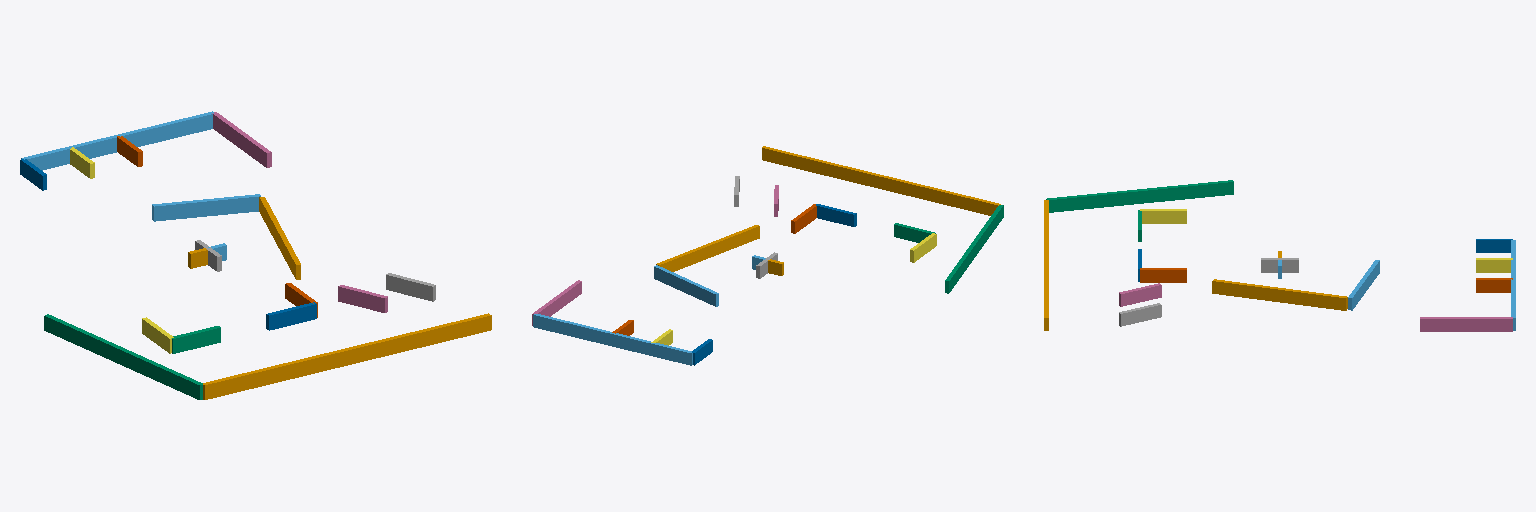
URDF robot description (arena):
<robot name="arena">
  <link name="wall_left">
    <inertial>
      <origin xyz="3.5 -5 0" /> 
      <mass value="10.0" />
      <inertia  ixx="1.0" ixy="0.0"  ixz="0.0"  iyy="1.0"  iyz="0.0"  izz="1.0" />
    </inertial>
    <visual>
      <origin xyz="3.5 -5 0"/>
      <geometry>
        <box size="6 0.1 0.3" />
      </geometry>
    </visual>
    <collision>
      <origin xyz="3.5 -5 0"/>
      <geometry>
       <box size="6 0.1 0.3" />
      </geometry>
    </collision>
  </link>
  
  <link name="wall_right">
    <inertial>
      <origin xyz="4.5 5 0" /> 
      <mass value="10.0" />
      <inertia  ixx="1.0" ixy="0.0"  ixz="0.0"  iyy="1.0"  iyz="0.0"  izz="1.0" />
    </inertial>
    <visual>
      <origin xyz="4.5 5 0"/>
      <geometry>
        <box size="4 0.1 0.3" />
      </geometry>
    </visual>
    <collision>
      <origin xyz="4.5 5 0"/>
      <geometry>
       <box size="4 0.1 0.3" />
      </geometry>
    </collision>
  </link>
  
  <joint name="join_wall_left_to_right" type="fixed">
    <origin xyz="0 0 0" rpy="0 0 0"/>
    <parent link="wall_left"/>
    <child link="wall_right"/>
  </joint>


  <link name="wall_left_angle">
    <inertial>
      <origin rpy="0 0 -1.34" xyz="0 -3 0" /> 
      <mass value="10.0" />
      <inertia  ixx="1.0" ixy="0.0"  ixz="0.0"  iyy="1.0"  iyz="0.0"  izz="1.0" />
    </inertial>
    <visual>
      <origin rpy="0 0 -1.34" xyz="0 -3 0"/>
      <geometry>
        <box size="4.12 0.1 0.3" />
      </geometry>
    </visual>
    <collision>
      <origin rpy="0 0 -1.34" xyz="0 -3 0"/>
      <geometry>
       <box size="4.12 0.1 0.3" />
      </geometry>
    </collision>
  </link>
  
  <joint name="join_wall_left_to_left_angle" type="fixed">
    <origin xyz="0 0 0" rpy="0 0 0"/>
    <parent link="wall_left"/>
    <child link="wall_left_angle"/>
  </joint>



  <link name="wall_right_middle">
    <inertial>
      <origin xyz="3.5 4.75 0" /> 
      <mass value="10.0" />
      <inertia  ixx="1.0" ixy="0.0"  ixz="0.0"  iyy="1.0"  iyz="0.0"  izz="1.0" />
    </inertial>
    <visual>
      <origin xyz="3.5 4.6 0"/>
      <geometry>
        <box size="0.1 0.8 0.3" />
      </geometry>
    </visual>
    <collision>
      <origin xyz="3.5 4.6 0"/>
      <geometry>
       <box size="0.1 0.8 0.3" />
      </geometry>
    </collision>
  </link>

  <joint name="join_wall_right_to_middle_right" type="fixed">
    <origin xyz="0 0 0" rpy="0 0 0"/>
    <parent link="wall_left"/>
    <child link="wall_right_middle"/>
  </joint>
  
  
  <link name="wall_right_middle_1">
    <inertial>
      <origin xyz="2.5 4.6 0" /> 
      <mass value="10.0" />
      <inertia  ixx="1.0" ixy="0.0"  ixz="0.0"  iyy="1.0"  iyz="0.0"  izz="1.0" />
    </inertial>
    <visual>
      <origin xyz="2.5 4.6 0"/>
      <geometry>
        <box size="0.1 0.8 0.3" />
      </geometry>
    </visual>
    <collision>
      <origin xyz="2.5 4.6 0"/>
      <geometry>
       <box size="0.1 0.8 0.3" />
      </geometry>
    </collision>
  </link>

  <joint name="join_wall_right_to_middle_right_1" type="fixed">
    <origin xyz="0 0 0" rpy="0 0 0"/>
    <parent link="wall_left"/>
    <child link="wall_right_middle_1"/>
  </joint>
  
  <link name="wall_right_middle_2">
    <inertial>
      <origin xyz="4.5 4.6 0" /> 
      <mass value="10.0" />
      <inertia  ixx="1.0" ixy="0.0"  ixz="0.0"  iyy="1.0"  iyz="0.0"  izz="1.0" />
    </inertial>
    <visual>
      <origin xyz="4.5 4.6 0"/>
      <geometry>
        <box size="0.1 0.8 0.3" />
      </geometry>
    </visual>
    <collision>
      <origin xyz="4.5 4.6 0"/>
      <geometry>
       <box size="0.1 0.8 0.3" />
      </geometry>
    </collision>
  </link>

  <joint name="join_wall_right_to_middle_right_2" type="fixed">
    <origin xyz="0 0 0" rpy="0 0 0"/>
    <parent link="wall_left"/>
    <child link="wall_right_middle_2"/>
  </joint>
  
  
  
  <link name="wall_right_bottom">
    <inertial>
      <origin xyz="6.5 4 0" /> 
      <mass value="10.0" />
      <inertia  ixx="1.0" ixy="0.0"  ixz="0.0"  iyy="1.0"  iyz="0.0"  izz="1.0" />
    </inertial>
    <visual>
      <origin xyz="6.5 4 0"/>
      <geometry>
        <box size="0.1 2 0.3" />
      </geometry>
    </visual>
    <collision>
      <origin xyz="6.5 4 0"/>
      <geometry>
       <box size="0.1 2 0.3" />
      </geometry>
    </collision>
  </link>

  <joint name="joint_1" type="fixed">
    <origin xyz="0 0 0" rpy="0 0 0"/>
    <parent link="wall_left"/>
    <child link="wall_right_bottom"/>
  </joint>
  
  <link name="wall_middle_y">
    <inertial>
      <origin xyz="3.5 0 0" /> 
      <mass value="10.0" />
      <inertia  ixx="1.0" ixy="0.0"  ixz="0.0"  iyy="1.0"  iyz="0.0"  izz="1.0" />
    </inertial>
    <visual>
      <origin xyz="3.5 0 0"/>
      <geometry>
        <box size="0.1 0.8 0.3" />
      </geometry>
    </visual>
    <collision>
      <origin xyz="3.5 0 0"/>
      <geometry>
       <box size="0.1 0.8 0.3" />
      </geometry>
    </collision>
  </link>
  
  <joint name="joint_2" type="fixed">
    <origin xyz="0 0 0" rpy="0 0 0"/>
    <parent link="wall_left"/>
    <child link="wall_middle_y"/>
  </joint>
  
   <link name="wall_middle_x1">
    <inertial>
      <origin xyz="3.275 0 0" /> 
      <mass value="10.0" />
      <inertia  ixx="1.0" ixy="0.0"  ixz="0.0"  iyy="1.0"  iyz="0.0"  izz="1.0" />
    </inertial>
    <visual>
      <origin xyz="3.275 0 0"/>
      <geometry>
        <box size="0.35 0.1 0.3" />
      </geometry>
    </visual>
    <collision>
      <origin xyz="3.275 0 0"/>
      <geometry>
       <box size="0.35 0.1 0.3" />
      </geometry>
    </collision>
  </link>
  
   <link name="wall_middle_x2">
    <inertial>
      <origin xyz="3.685 0 0" /> 
      <mass value="10.0" />
      <inertia  ixx="1.0" ixy="0.0"  ixz="0.0"  iyy="1.0"  iyz="0.0"  izz="1.0" />
    </inertial>
    <visual>
      <origin xyz="3.685 0 0"/>
      <geometry>
        <box size="0.35 0.1 0.3" />
      </geometry>
    </visual>
    <collision>
      <origin xyz="3.685 0 0"/>
      <geometry>
       <box size="0.35 0.1 0.3" />
      </geometry>
    </collision>
  </link>

  <joint name="joint_3" type="fixed">
    <origin xyz="0 0 0" rpy="0 0 0"/>
    <parent link="wall_left"/>
    <child link="wall_middle_x1"/>
  </joint>
  
  <joint name="joint_4" type="fixed">
    <origin xyz="0 0 0" rpy="0 0 0"/>
    <parent link="wall_left"/>
    <child link="wall_middle_x2"/>
  </joint>
  
  <link name="wall_middle_1">
    <inertial>
      <origin xyz="1.5 -3 0" /> 
      <mass value="10.0" />
      <inertia  ixx="1.0" ixy="0.0"  ixz="0.0"  iyy="1.0"  iyz="0.0"  izz="1.0" />
    </inertial>
    <visual>
      <origin xyz="1.5 -3 0"/>
      <geometry>
        <box size="1 0.1 0.3" />
      </geometry>
    </visual>
    <collision>
      <origin xyz="1.5 -3 0"/>
      <geometry>
       <box size="1 0.1 0.3" />
      </geometry>
    </collision>
  </link>
  
  <link name="wall_middle_2">
    <inertial>
      <origin xyz="1 -2.5 0" /> 
      <mass value="10.0" />
      <inertia  ixx="1.0" ixy="0.0"  ixz="0.0"  iyy="1.0"  iyz="0.0"  izz="1.0" />
    </inertial>
    <visual>
      <origin xyz="1 -2.5 0"/>
      <geometry>
        <box size="0.1 1 0.3" />
      </geometry>
    </visual>
    <collision>
      <origin xyz="1 -2.5 0"/>
      <geometry>
       <box size="0.1 1 0.3" />
      </geometry>
    </collision>
  </link>
  
  <joint name="joint_5" type="fixed">
    <origin xyz="0 0 0" rpy="0 0 0"/>
    <parent link="wall_left"/>
    <child link="wall_middle_1"/>
  </joint>
  
  <joint name="joint_6" type="fixed">
    <origin xyz="0 0 0" rpy="0 0 0"/>
    <parent link="wall_left"/>
    <child link="wall_middle_2"/>
  </joint>
  
    <link name="wall_middle_3">
    <inertial>
      <origin xyz="3.5 -3 0" /> 
      <mass value="10.0" />
      <inertia  ixx="1.0" ixy="0.0"  ixz="0.0"  iyy="1.0"  iyz="0.0"  izz="1.0" />
    </inertial>
    <visual>
      <origin xyz="3.5 -3 0"/>
      <geometry>
        <box size="1 0.1 0.3" />
      </geometry>
    </visual>
    <collision>
      <origin xyz="3.5 -3 0"/>
      <geometry>
       <box size="1 0.1 0.3" />
      </geometry>
    </collision>
  </link>
  
  <link name="wall_middle_4">
    <inertial>
      <origin xyz="4 -2.5 0" /> 
      <mass value="10.0" />
      <inertia  ixx="1.0" ixy="0.0"  ixz="0.0"  iyy="1.0"  iyz="0.0"  izz="1.0" />
    </inertial>
    <visual>
      <origin xyz="4 -2.5 0"/>
      <geometry>
        <box size="0.1 1 0.3" />
      </geometry>
    </visual>
    <collision>
      <origin xyz="4 -2.5 0"/>
      <geometry>
       <box size="0.1 1 0.3" />
      </geometry>
    </collision>
  </link>
  
  <joint name="joint_7" type="fixed">
    <origin xyz="0 0 0" rpy="0 0 0"/>
    <parent link="wall_left"/>
    <child link="wall_middle_3"/>
  </joint>
  
  <joint name="joint_8" type="fixed">
    <origin xyz="0 0 0" rpy="0 0 0"/>
    <parent link="wall_left"/>
    <child link="wall_middle_4"/>
  </joint>
  
  <link name="wall_middle_5">
    <inertial>
      <origin rpy="0 0 0.5" xyz="5 -3 0" /> 
      <mass value="10.0" />
      <inertia  ixx="1.0" ixy="0.0"  ixz="0.0"  iyy="1.0"  iyz="0.0"  izz="1.0" />
    </inertial>
    <visual>
      <origin rpy="0 0 0.5" xyz="5 -3 0"/>
      <geometry>
        <box size="0.1 1 0.3" />
      </geometry>
    </visual>
    <collision>
      <origin rpy="0 0 0.5" xyz="5 -3 0"/>
      <geometry>
       <box size="0.1 1 0.3" />
      </geometry>
    </collision>
  </link>
  
  <joint name="joint_9" type="fixed">
    <origin xyz="0 0 0" rpy="0 0 0"/>
    <parent link="wall_left"/>
    <child link="wall_middle_5"/>
  </joint>
  
    <link name="wall_middle_6">
    <inertial>
      <origin rpy="0 0 0.5" xyz="6 -3 0" /> 
      <mass value="10.0" />
      <inertia  ixx="1.0" ixy="0.0"  ixz="0.0"  iyy="1.0"  iyz="0.0"  izz="1.0" />
    </inertial>
    <visual>
      <origin rpy="0 0 0.5" xyz="6 -3 0"/>
      <geometry>
        <box size="0.1 1 0.3" />
      </geometry>
    </visual>
    <collision>
      <origin rpy="0 0 0.5" xyz="6 -3 0"/>
      <geometry>
       <box size="0.1 1 0.3" />
      </geometry>
    </collision>
  </link>
  
  
  <joint name="joint_10" type="fixed">
    <origin xyz="0 0 0" rpy="0 0 0"/>
    <parent link="wall_left"/>
    <child link="wall_middle_6"/>
  </joint>
  
  <link name="wall_middle_7">
    <inertial>
      <origin rpy="0 0 -0.3" xyz="5 0 0" /> 
      <mass value="10.0" />
      <inertia  ixx="1.0" ixy="0.0"  ixz="0.0"  iyy="1.0"  iyz="0.0"  izz="1.0" />
    </inertial>
    <visual>
      <origin rpy="0 0 -0.3" xyz="5 0 0"/>
      <geometry>
        <box size="0.1 3 0.3" />
      </geometry>
    </visual>
    <collision>
      <origin rpy="0 0 -0.3" xyz="5 0 0"/>
      <geometry>
       <box size="0.1 3 0.3" />
      </geometry>
    </collision>
  </link>
  
  
  <joint name="joint_11" type="fixed">
    <origin xyz="0 0 0" rpy="0 0 0"/>
    <parent link="wall_left"/>
    <child link="wall_middle_7"/>
  </joint>
  
  <link name="wall_middle_8">
    <inertial>
      <origin rpy="0 0 -1.87" xyz="4.5 1.8 0" /> 
      <mass value="10.0" />
      <inertia  ixx="1.0" ixy="0.0"  ixz="0.0"  iyy="1.0"  iyz="0.0"  izz="1.0" />
    </inertial>
    <visual>
      <origin rpy="0 0 -1.87" xyz="4.5 1.8 0"/>
      <geometry>
        <box size="0.1 2 0.3" />
      </geometry>
    </visual>
    <collision>
      <origin rpy="0 0 -1.87" xyz="4.5 1.8 0"/>
      <geometry>
       <box size="0.1 2 0.3" />
      </geometry>
    </collision>
  </link>
  
  
  <joint name="joint_12" type="fixed">
    <origin xyz="0 0 0" rpy="0 0 0"/>
    <parent link="wall_left"/>
    <child link="wall_middle_8"/>
  </joint>
  
  <gazebo reference="wall_middle_7">
  <material>Gazebo/White</material>
  <static>true</static>
  </gazebo>
  

  

  
</robot>

--- What the picture shows (computed from the rendered views, not written in the file) ---
The picture shows the robot from 3 angles, left to right: view 1: azimuth 30°, elevation 25°; view 2: azimuth 150°, elevation 25°; view 3: azimuth 270°, elevation 25°; orthographic projection.
Model arena with 18 links and 17 joints (17 fixed), rooted at wall_left, posed all joints at 0.
Links seen in each view (by area): view 1: wall_left, wall_left_angle, wall_right, wall_middle_8, wall_right_bottom, wall_middle_7, wall_middle_3, wall_middle_5, wall_middle_6, wall_middle_1, wall_middle_2; view 2: wall_left, wall_right, wall_middle_7, wall_left_angle, wall_middle_8, wall_right_bottom, wall_middle_3; view 3: wall_left_angle, wall_middle_7, wall_right_bottom, wall_middle_4, wall_middle_2, wall_left, wall_middle_5, wall_middle_6, wall_middle_8, wall_right_middle, wall_right_middle_2.
Link boxes in pixels (x1=…): wall_left: x1=203, y1=313, x2=491, y2=399; wall_left_angle: x1=44, y1=314, x2=202, y2=399; wall_right: x1=21, y1=111, x2=213, y2=170; wall_middle_8: x1=152, y1=194, x2=260, y2=221; wall_right_bottom: x1=212, y1=112, x2=271, y2=167; wall_middle_7: x1=259, y1=197, x2=300, y2=279; wall_middle_3: x1=266, y1=302, x2=316, y2=330; wall_middle_5: x1=338, y1=285, x2=387, y2=312; wall_middle_6: x1=386, y1=273, x2=435, y2=301; wall_middle_1: x1=172, y1=326, x2=220, y2=353; wall_middle_2: x1=142, y1=317, x2=173, y2=353; wall_left: x1=762, y1=146, x2=1000, y2=215; wall_right: x1=533, y1=314, x2=692, y2=365; wall_middle_7: x1=656, y1=225, x2=759, y2=271; wall_left_angle: x1=945, y1=205, x2=1003, y2=293; wall_middle_8: x1=654, y1=265, x2=718, y2=306; wall_right_bottom: x1=532, y1=280, x2=581, y2=325; wall_middle_3: x1=816, y1=204, x2=856, y2=226; wall_left_angle: x1=1046, y1=180, x2=1233, y2=212; wall_middle_7: x1=1212, y1=279, x2=1347, y2=310; wall_right_bottom: x1=1420, y1=317, x2=1512, y2=331; wall_middle_4: x1=1140, y1=268, x2=1186, y2=282; wall_middle_2: x1=1140, y1=209, x2=1186, y2=223; wall_left: x1=1044, y1=200, x2=1048, y2=330; wall_middle_5: x1=1119, y1=283, x2=1161, y2=306; wall_middle_6: x1=1119, y1=303, x2=1161, y2=326; wall_middle_8: x1=1348, y1=260, x2=1379, y2=310; wall_right_middle: x1=1476, y1=258, x2=1512, y2=272; wall_right_middle_2: x1=1476, y1=278, x2=1512, y2=292.
Size in the robot's own frame: 7.07 by 10.1 by 0.3 metres.
Geometry: primitives only (box / cylinder / sphere), no mesh files.